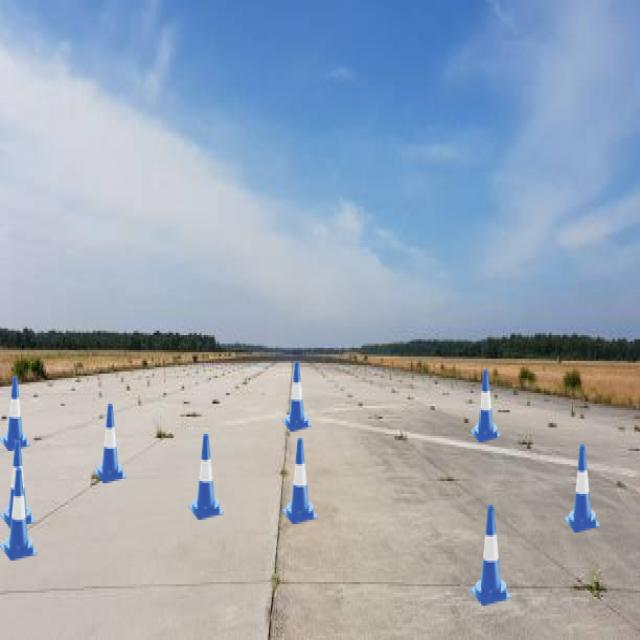blue_cone: (471, 504, 512, 606), (0, 468, 38, 561), (0, 441, 36, 528), (188, 434, 224, 520), (282, 438, 318, 524), (565, 444, 600, 532), (94, 404, 127, 483), (0, 376, 30, 451), (471, 370, 501, 442), (282, 361, 312, 432)
